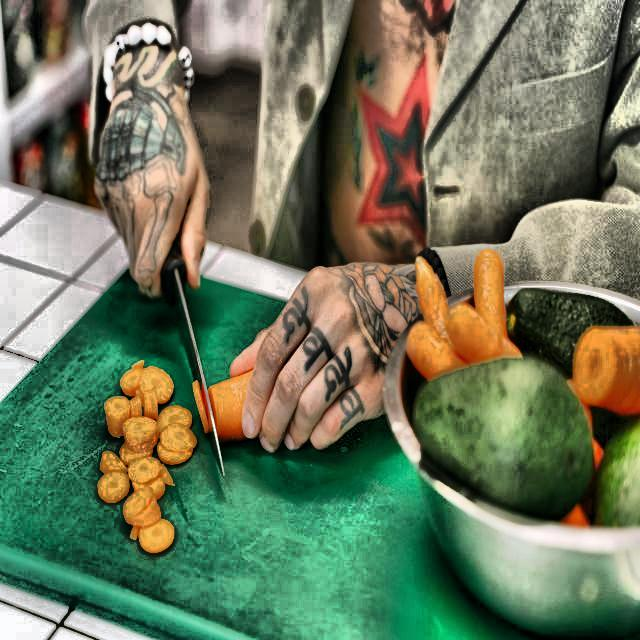knife: (148, 208, 233, 496)
